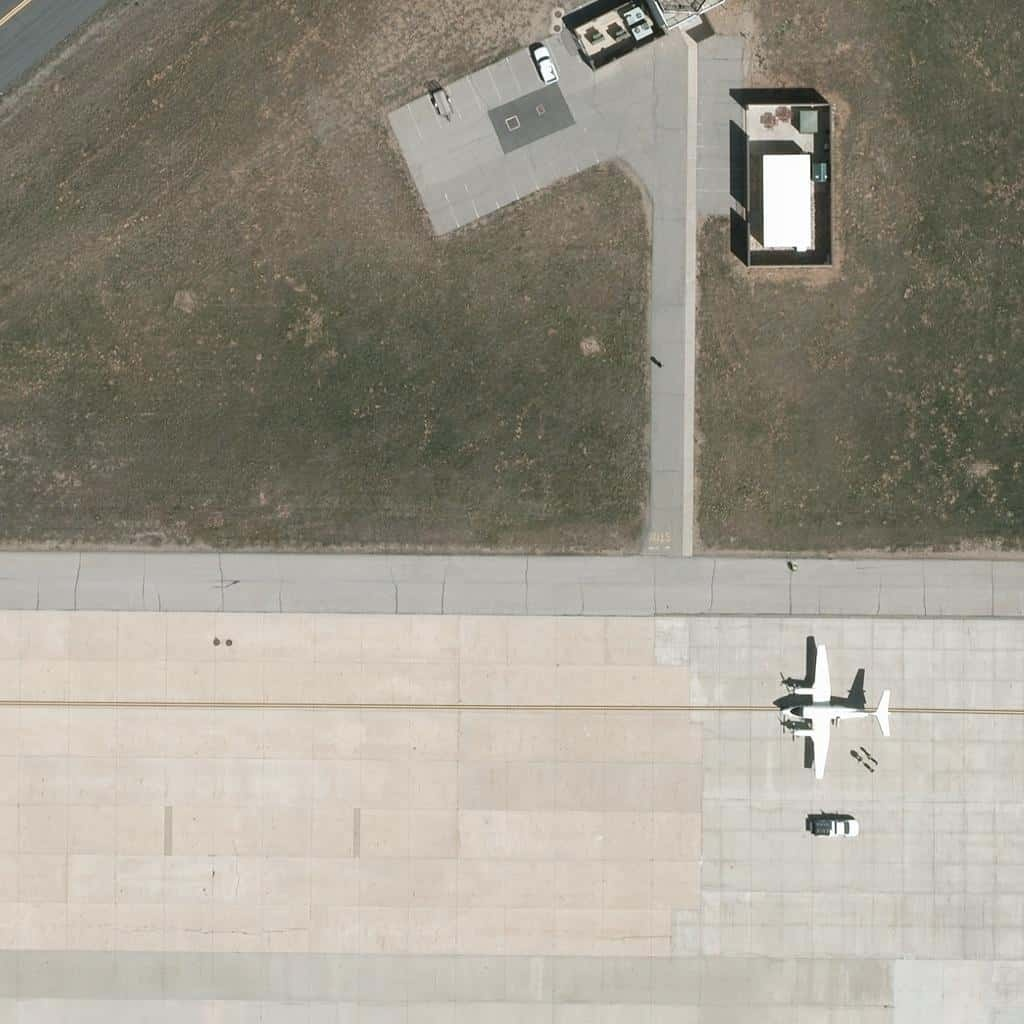plane: (779, 642, 891, 778)
